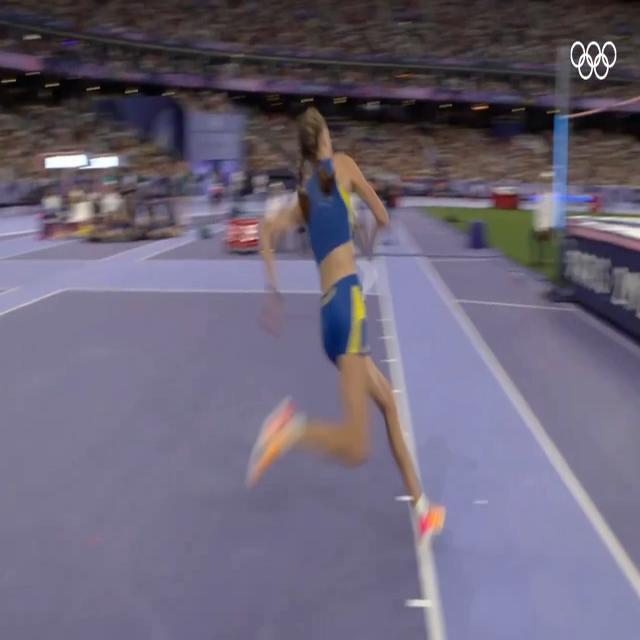run: (244, 97, 446, 540)
